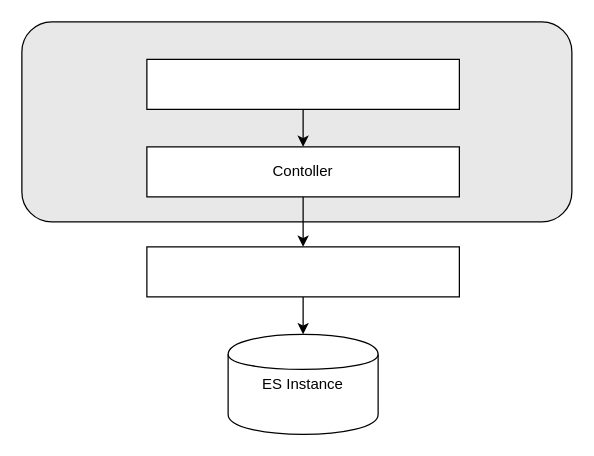
Image size: 594x456. Some labels were removed from this diagram. Each missing label, with the centre of its shape:
"ES Client" belongs at pixel 302 271.
"Server" belongs at pixel 302 83.
